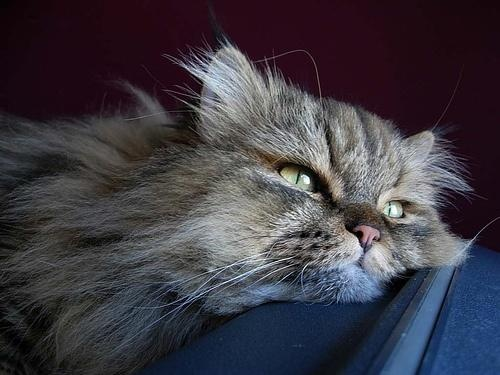cat: (1, 3, 475, 375)
